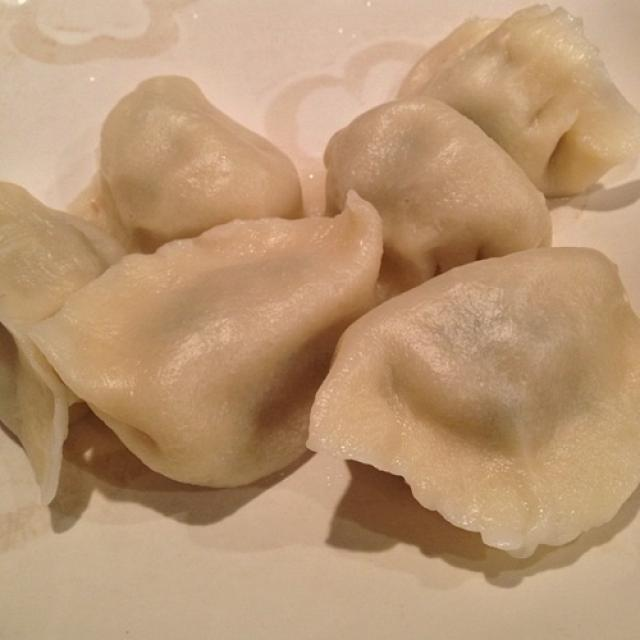带馅早点: (13, 10, 619, 586)
